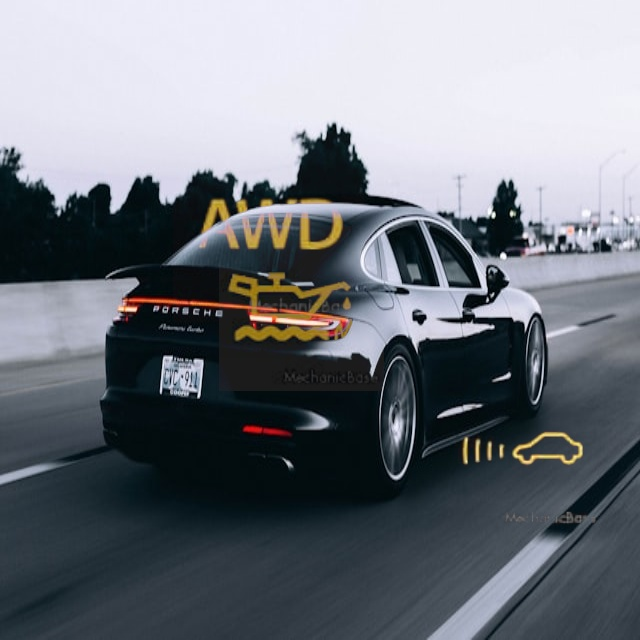symbol: (173, 131, 364, 322), (219, 226, 384, 391), (442, 371, 602, 531)
